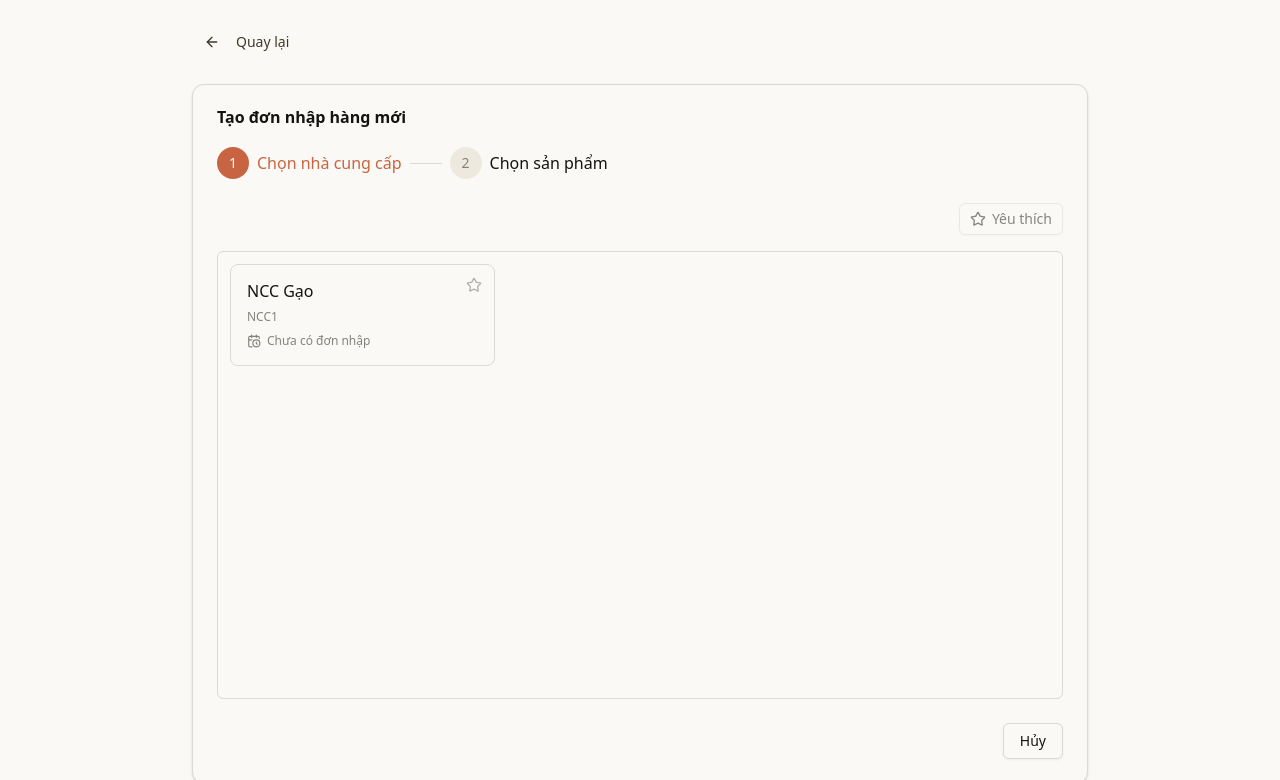
Scenario: PO create — Sửa template tại step 2 › non-admin không thấy nút Sửa template
What coordinates should you click on to do the following:
click the text "NCC Gạo"
I would click on:
 (280, 291)
Its box is top-left (247, 281), bottom-right (314, 301).
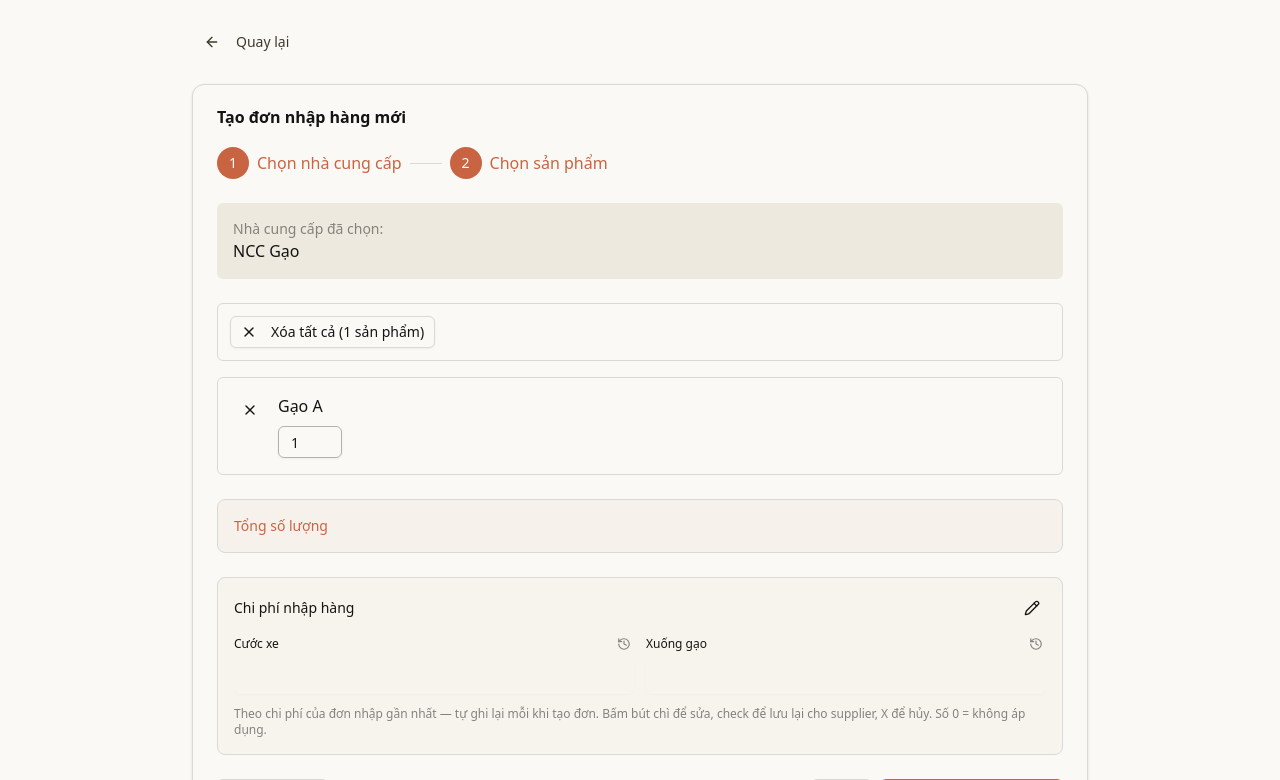
Expected: the text "Gạo A" is shown, top-left (278, 395), bottom-right (323, 417)
